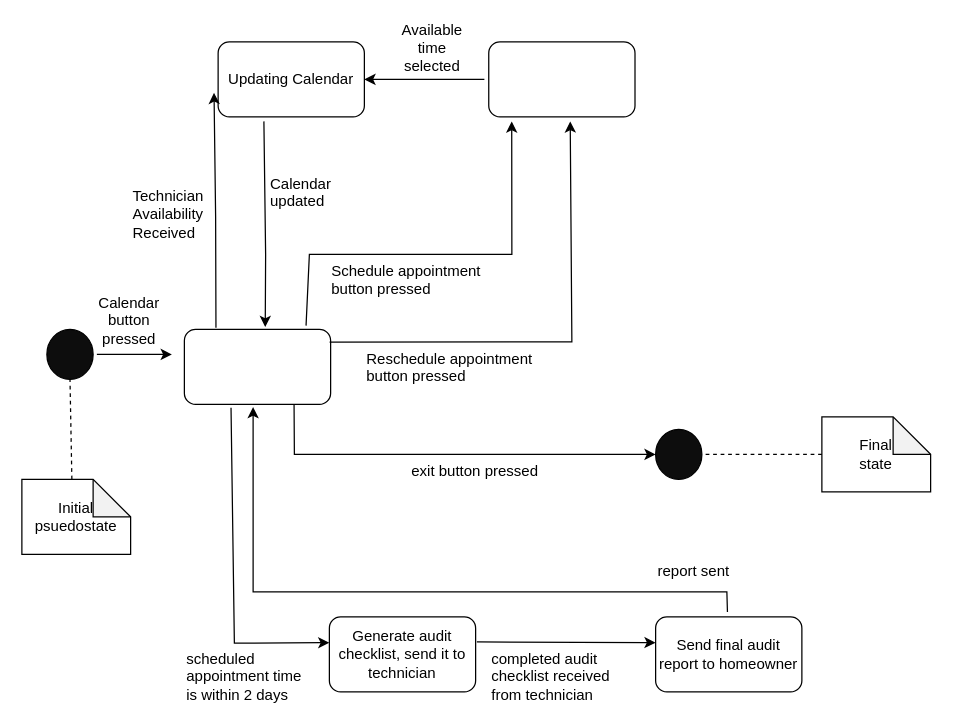
Some shapes in this 953 by 726 pixel diagram are drawn without their labels. The centre of each missing label's shape, as x and y in pixels:
"Calendar display" belongs at (x=257, y=366).
"Display available times" belongs at (x=561, y=79).
